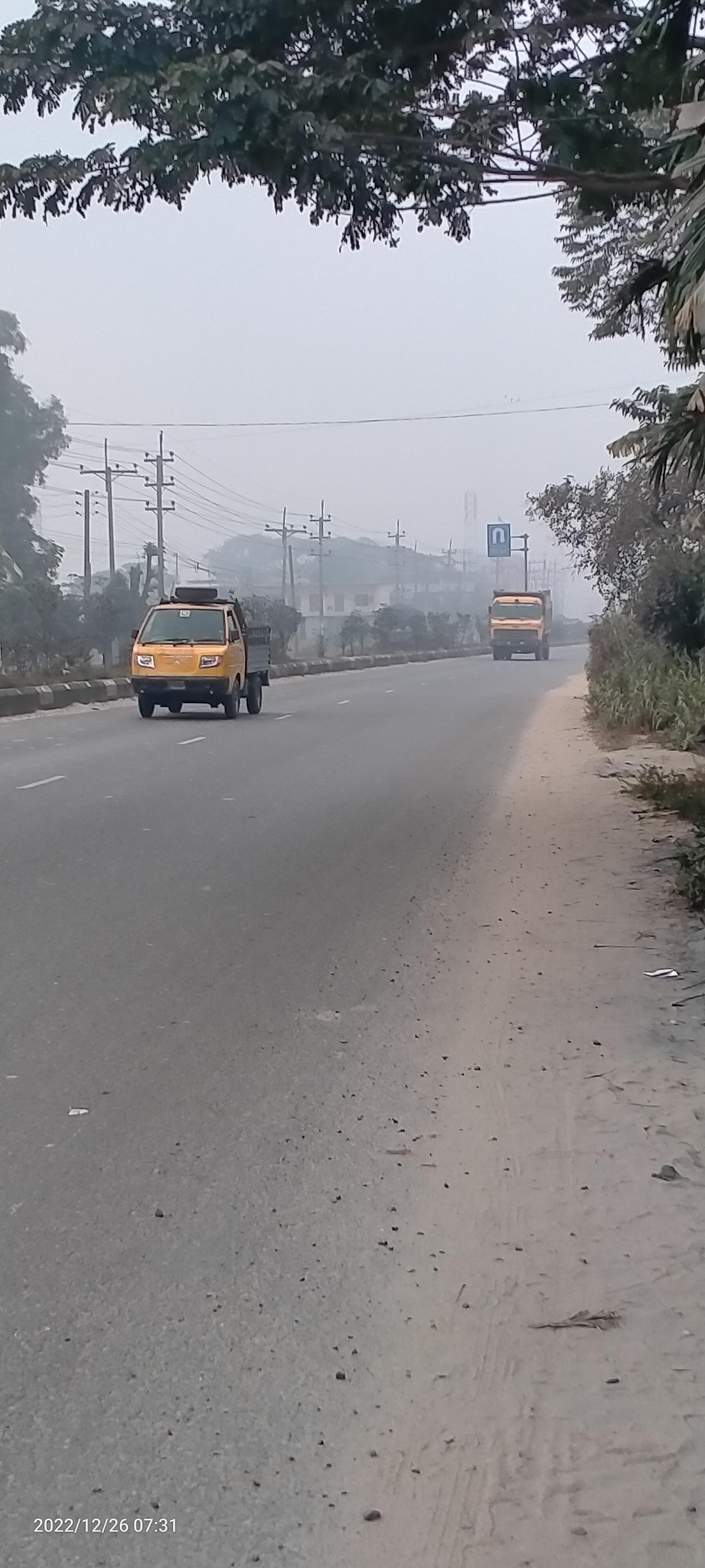Truck: (127, 575, 276, 723), (481, 580, 566, 680)
